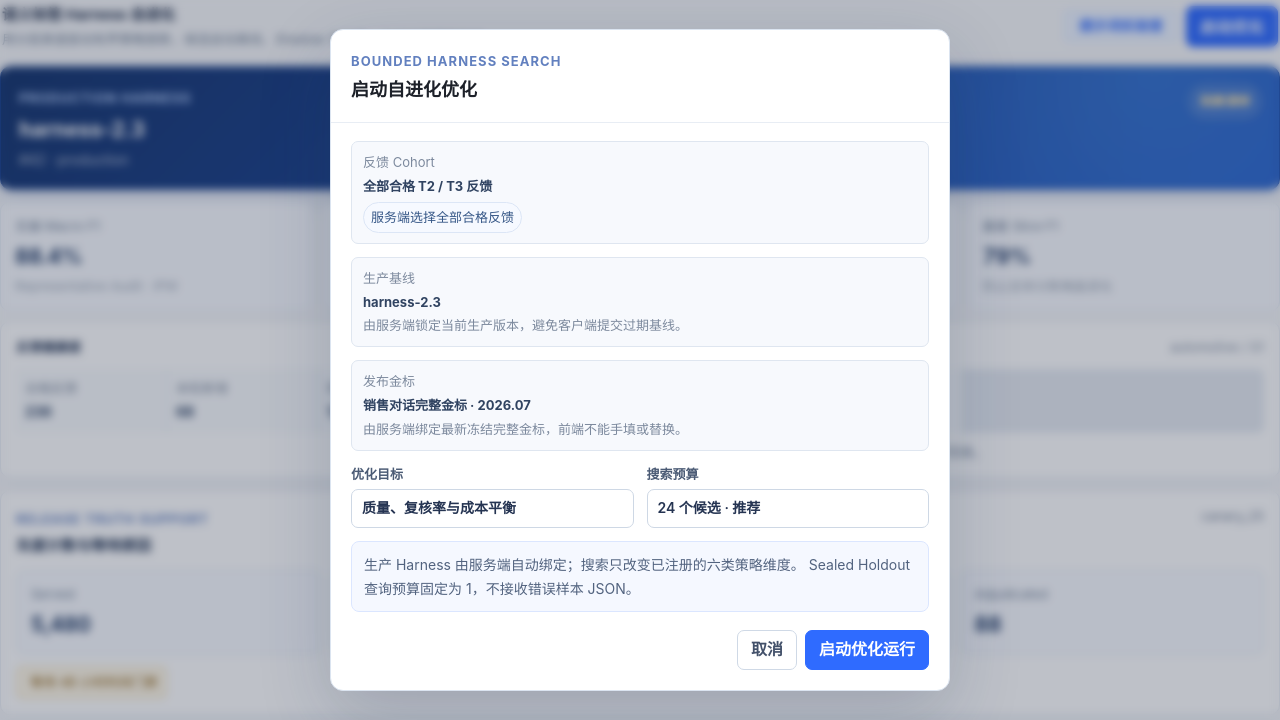
Test case: EvolutionPanel › explains when trusted-feedback coverage blocks an optimization run
Step 1. Click the button "启动优化运行" → click(867, 650), box [805,630,929,670]
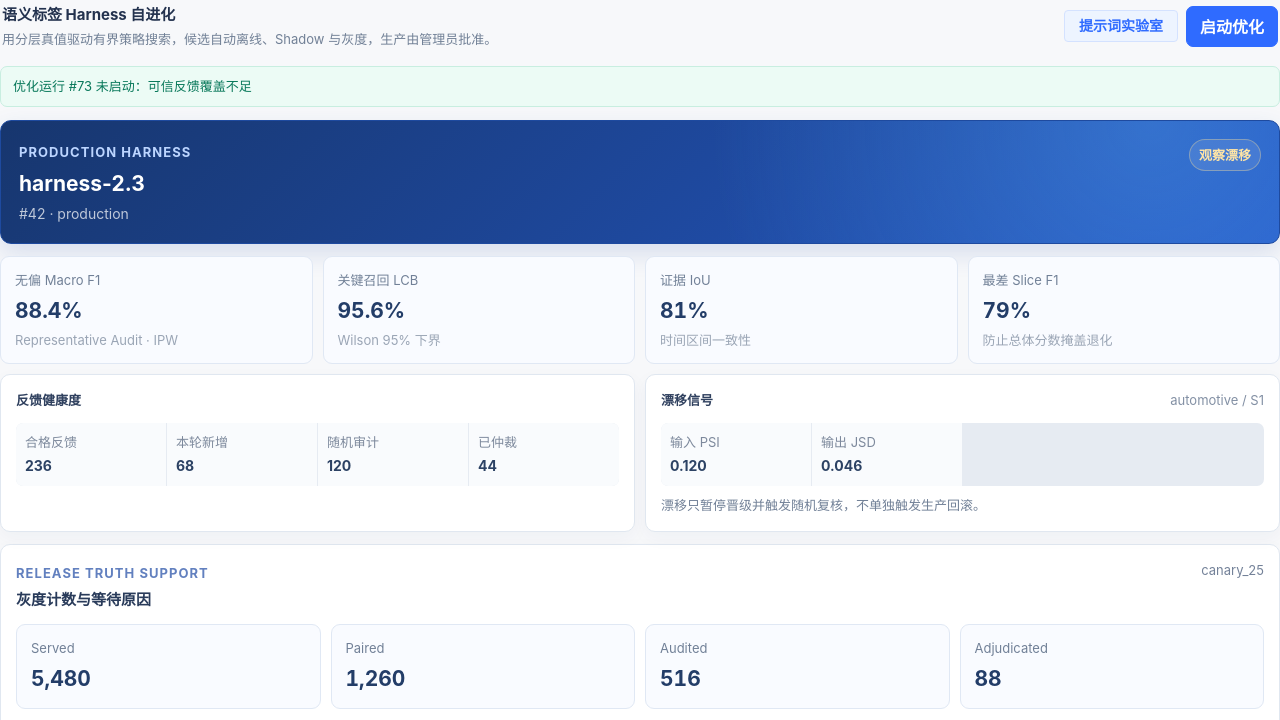
Check: the text "优化运行 #73 未启动：可信反馈覆盖不足" is shown, box [0,66,1279,107]
